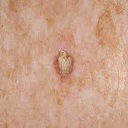Actinic: (55, 48, 75, 78)
